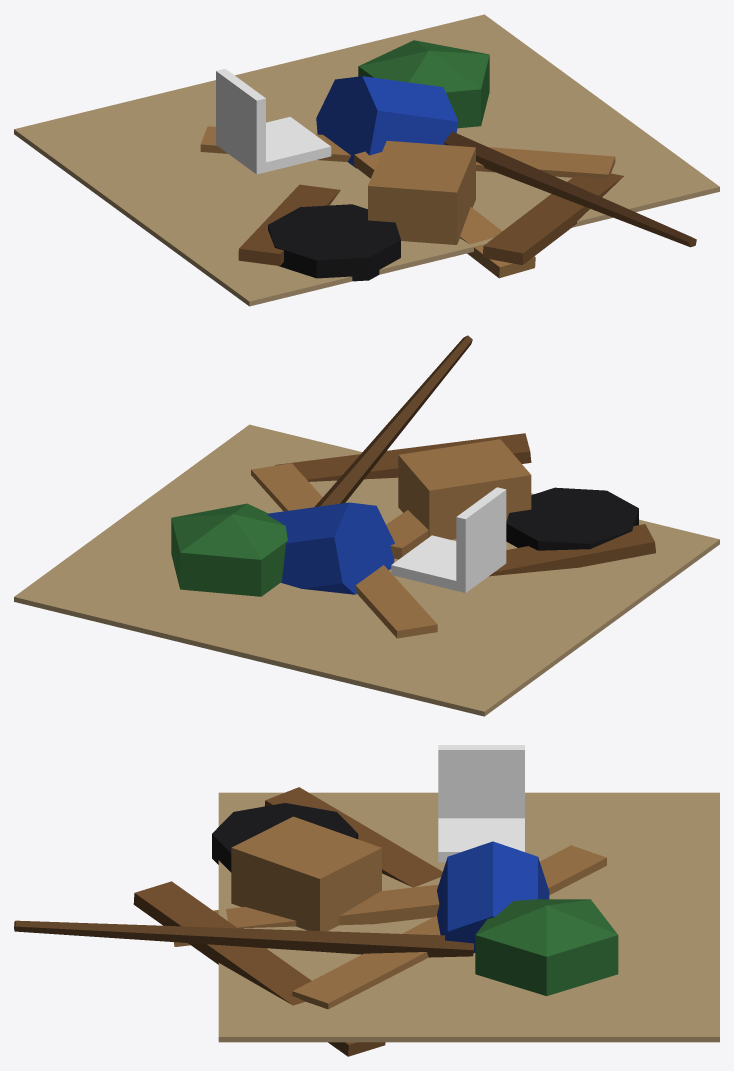
The model's file is escombros_barro_1.obj.
3 views of the same model, one above another, from view 1: azimuth 30°, elevation 25°; view 2: azimuth 150°, elevation 25°; view 3: azimuth 270°, elevation 25° (orthographic). The views are drawn at different scales.
Visible parts, largest first — view 1: escombros_barro_1; view 2: escombros_barro_1; view 3: escombros_barro_1.
Part boxes in pixels (<box>): escombros_barro_1: <box>14,14,719,306</box>; escombros_barro_1: <box>14,335,719,716</box>; escombros_barro_1: <box>14,745,719,1056</box>.
Size of the model in its own units: 3.01 by 0.884 by 3.66.
